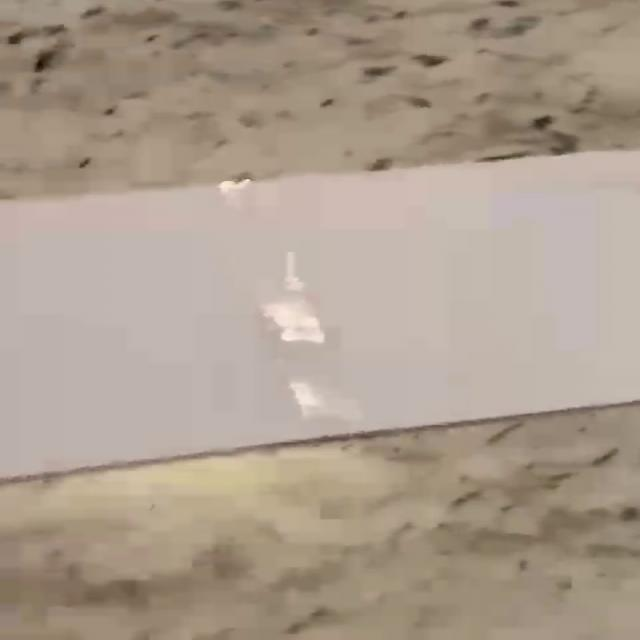road: (4, 151, 640, 476)
